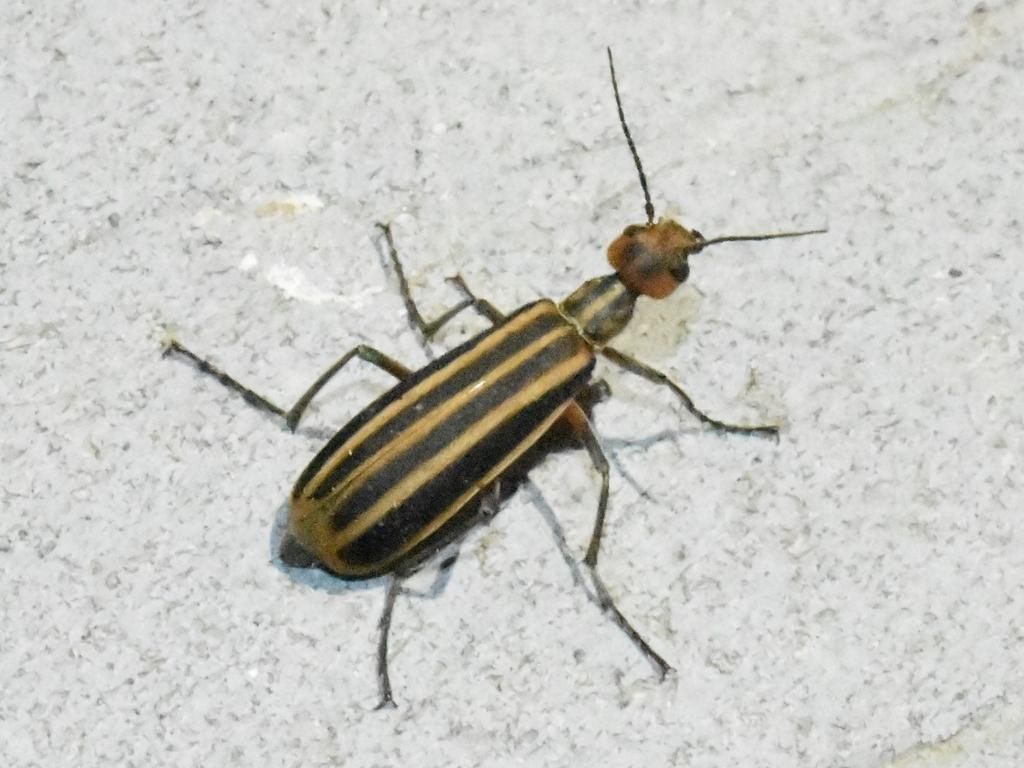blister_beetle: (153, 0, 869, 768)
